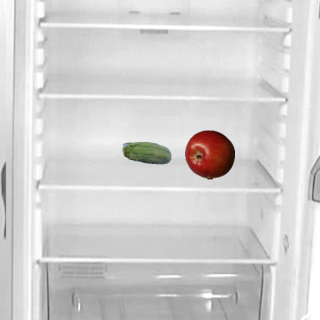Apple Braeburn: (184, 129, 234, 179)
Corn Husk: (121, 129, 171, 179)
